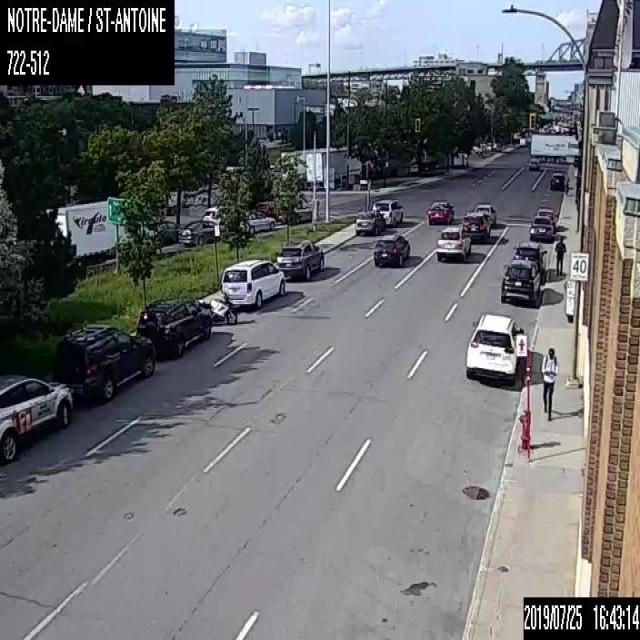pedestrian: (540, 347, 558, 422), (553, 234, 566, 278)
vehicle: (56, 322, 155, 401), (0, 371, 72, 465), (46, 199, 128, 261), (464, 311, 524, 385), (136, 298, 211, 357), (220, 258, 284, 308), (305, 148, 370, 188), (276, 240, 324, 279), (500, 258, 542, 302), (511, 240, 547, 282), (530, 132, 580, 162), (436, 226, 470, 260), (178, 220, 222, 246), (373, 233, 409, 264), (200, 292, 237, 322), (371, 196, 404, 227), (462, 211, 489, 241), (242, 209, 274, 233), (355, 209, 385, 234), (426, 198, 454, 224), (155, 219, 181, 246), (529, 215, 553, 241), (474, 202, 496, 228), (534, 207, 557, 230), (203, 205, 225, 229), (548, 168, 568, 191), (528, 158, 539, 170)
